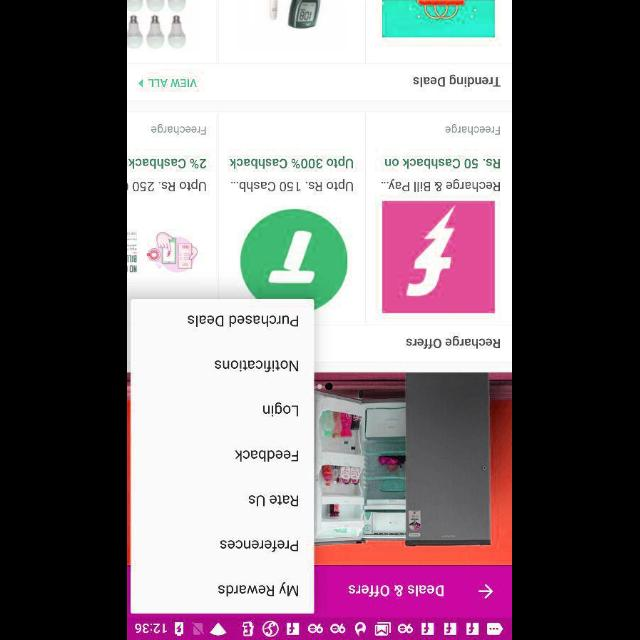icon: (478, 584, 494, 598), (139, 79, 143, 87)
image: (316, 372, 512, 564), (384, 201, 496, 313), (240, 208, 348, 308), (383, 0, 495, 38), (128, 1, 186, 51), (147, 232, 199, 274), (271, 1, 321, 30)
panel: (131, 298, 315, 614)
text: (230, 156, 354, 170), (230, 178, 354, 192), (382, 178, 502, 192), (188, 314, 300, 328), (386, 158, 500, 170), (406, 335, 500, 349), (218, 581, 300, 597), (414, 74, 502, 88), (348, 584, 444, 596), (220, 538, 300, 552), (215, 360, 299, 372), (128, 179, 208, 191), (128, 159, 208, 169), (235, 450, 299, 462), (249, 494, 299, 506), (263, 401, 299, 417), (151, 124, 207, 134), (446, 124, 500, 134), (149, 78, 197, 88)
uppertaskbar: (128, 617, 512, 639)
